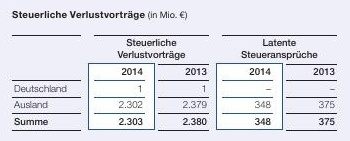table: (0, 0, 350, 141)
